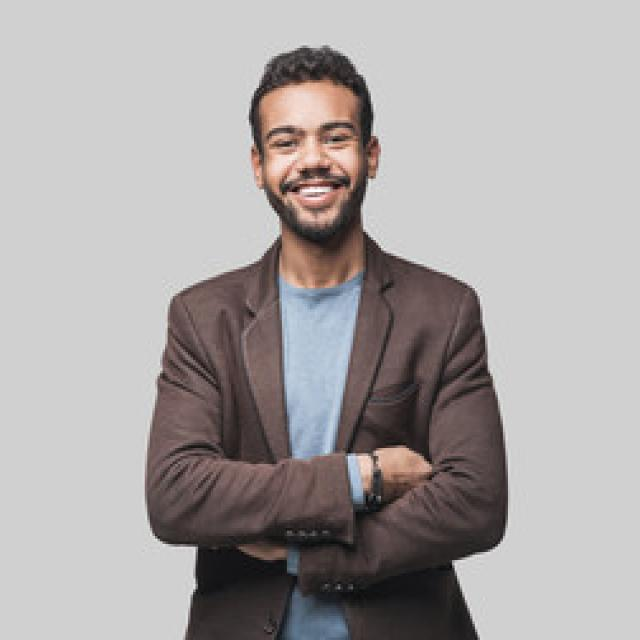person-without-mask: (100, 33, 558, 640)
